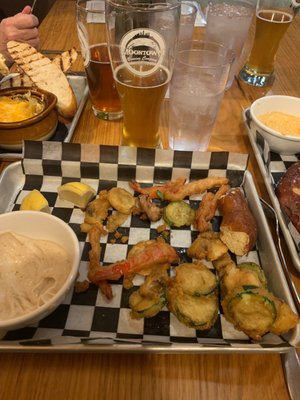pizza: (106, 0, 180, 135), (168, 40, 232, 152), (73, 0, 124, 121), (237, 0, 297, 89), (114, 62, 171, 148), (205, 0, 256, 91)
sushi: (0, 210, 81, 339), (245, 95, 300, 157)
